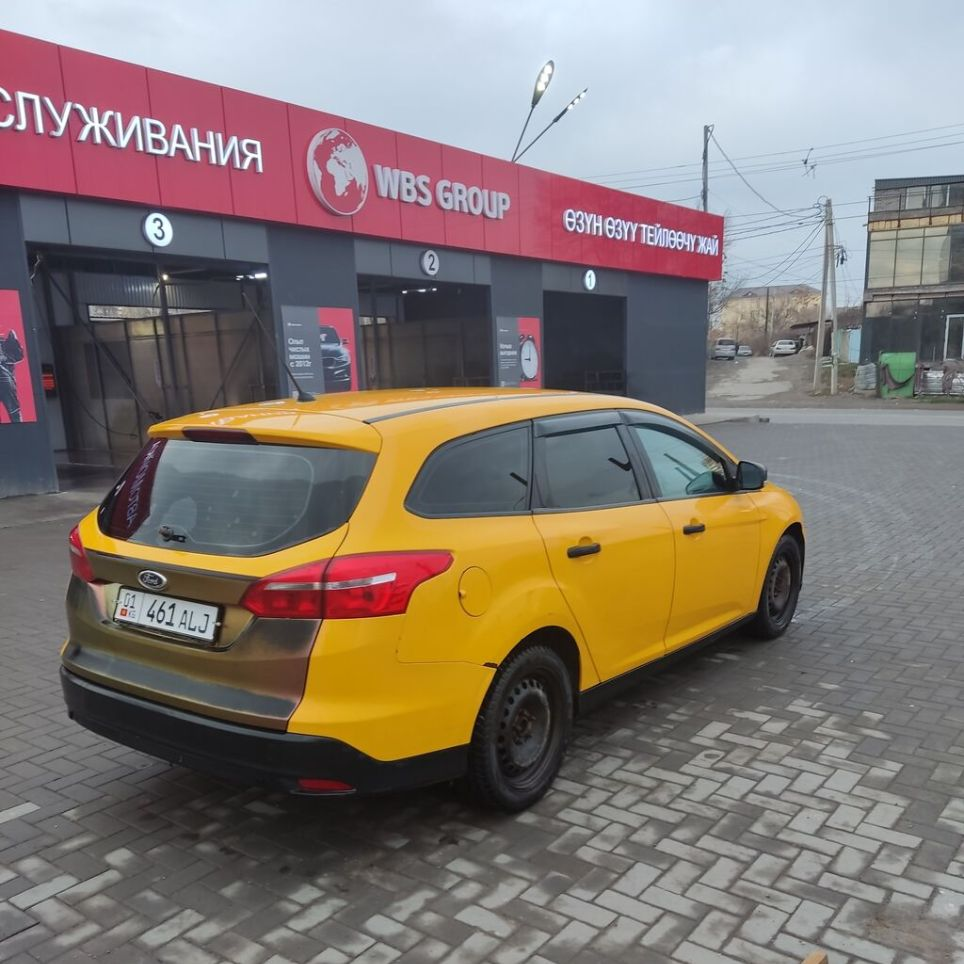license plate: (112, 585, 221, 643)
truck: (54, 389, 807, 812)
